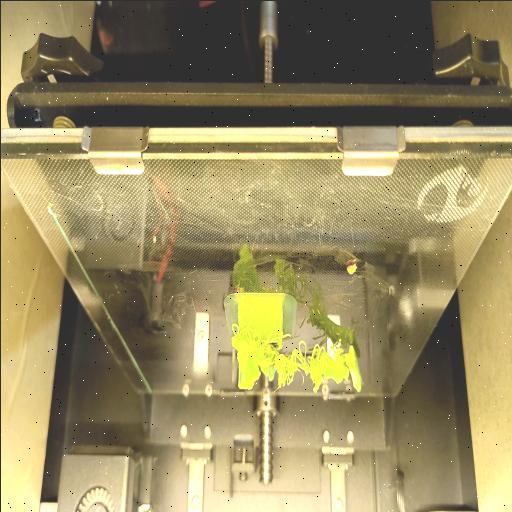spaghetti: (227, 318, 343, 398)
